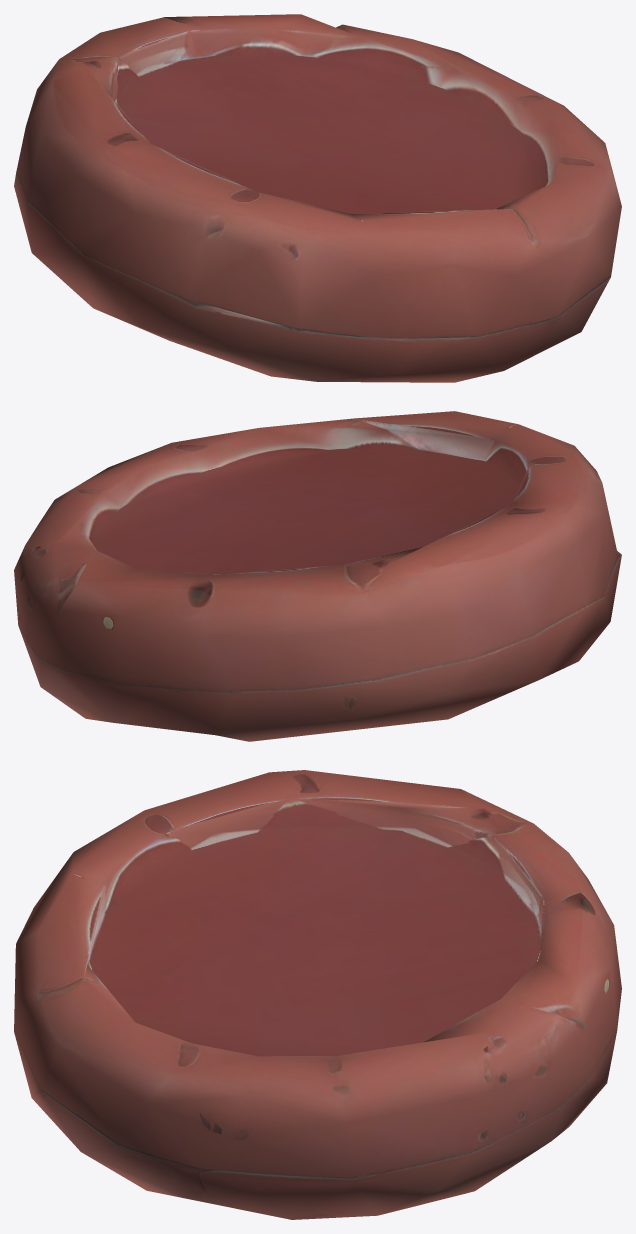
File: TripoModel.glb
3 views of the same model, one above another, from view 1: azimuth 30°, elevation 25°; view 2: azimuth 150°, elevation 25°; view 3: azimuth 270°, elevation 25° (orthographic).
Visible parts, largest first — view 1: tripo_node_fa452196-3f75-4aa0-a752-98f6b71c5e54; view 2: tripo_node_fa452196-3f75-4aa0-a752-98f6b71c5e54; view 3: tripo_node_fa452196-3f75-4aa0-a752-98f6b71c5e54.
Part boxes in pixels (bbox=[...]): tripo_node_fa452196-3f75-4aa0-a752-98f6b71c5e54: bbox=[14, 14, 621, 382]; tripo_node_fa452196-3f75-4aa0-a752-98f6b71c5e54: bbox=[14, 411, 621, 741]; tripo_node_fa452196-3f75-4aa0-a752-98f6b71c5e54: bbox=[14, 770, 621, 1219].
Bounding box in the file's own units: 1 × 0.4114 × 0.9962.
Materials: 1 (1 with a texture image).
